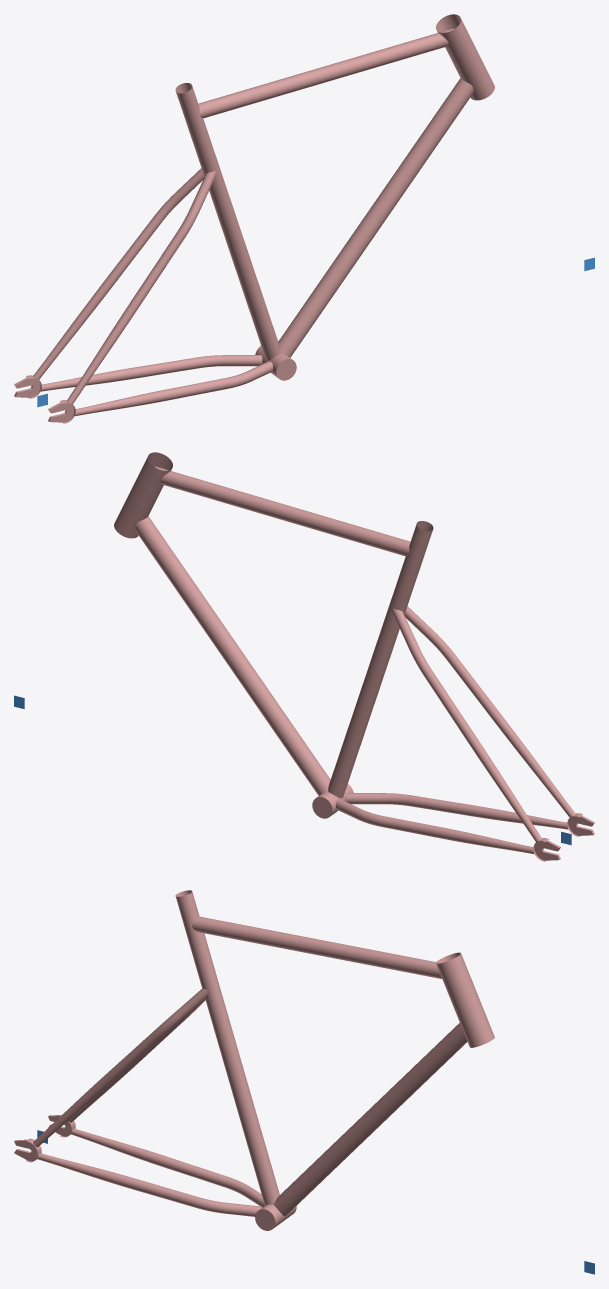
File: bikeFrame2.glb
3 views of the same model, one above another, from view 1: azimuth 30°, elevation 25°; view 2: azimuth 150°, elevation 25°; view 3: azimuth 330°, elevation 25° (orthographic).
Parts seen in each view (by area): view 1: no_transformations; view 2: no_transformations; view 3: no_transformations.
Part boxes in pixels (box(x1,y1,x2,y2)): no_transformations: box(14, 14, 594, 423); no_transformations: box(14, 452, 594, 861); no_transformations: box(14, 890, 594, 1274).
Bounding box in the file's own units: 1056 × 559 × 123.
